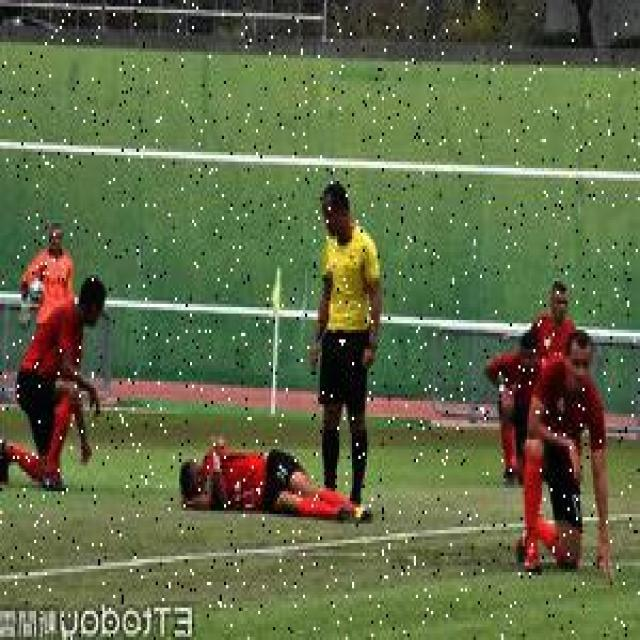fall: (179, 433, 371, 524)
